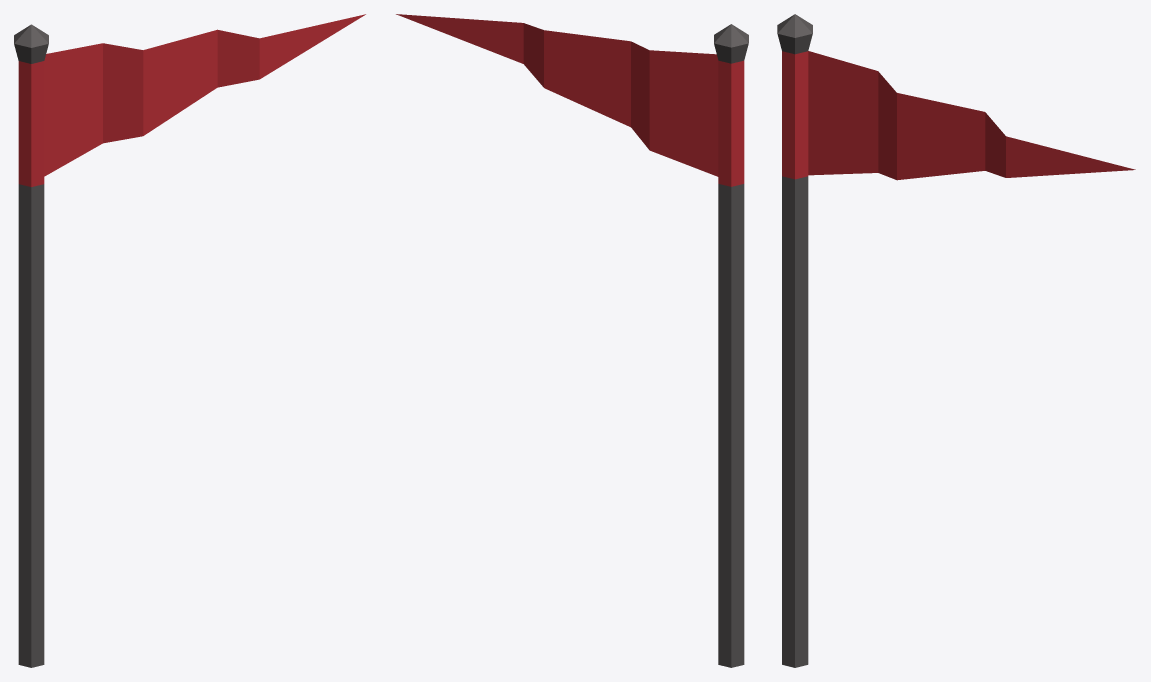
Rendered from medieval_flag-medieval.fbx.
The picture shows the model from 3 angles, left to right: view 1: azimuth 30°, elevation 25°; view 2: azimuth 150°, elevation 25°; view 3: azimuth 330°, elevation 25°; orthographic projection.
Parts seen in each view (by area): view 1: medieval_flag_medieval; view 2: medieval_flag_medieval; view 3: medieval_flag_medieval.
Boxes of the visible parts, x1,y1,x2,y2 form: medieval_flag_medieval: (14, 14, 365, 667); medieval_flag_medieval: (396, 14, 748, 667); medieval_flag_medieval: (777, 14, 1135, 667).
Bounding box in the file's own units: 116 × 200 × 10.79.
